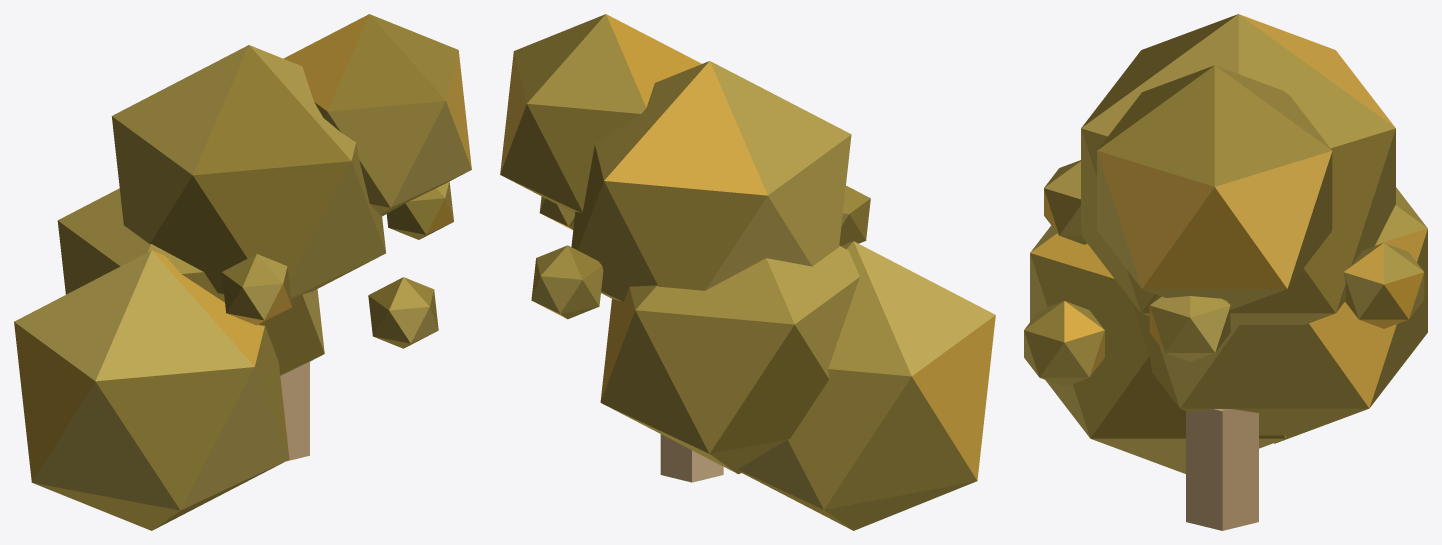
File: Plant_Berry_a.fbx
3 renders of one model, left to right at view 1: azimuth 30°, elevation 25°; view 2: azimuth 150°, elevation 25°; view 3: azimuth 270°, elevation 25°, orthographic. The views are drawn at different scales.
Parts seen in each view (by area): view 1: Plant_Berry_a; view 2: Plant_Berry_a; view 3: Plant_Berry_a.
Boxes of the visible parts, x1,y1,x2,y2 form: Plant_Berry_a: [14, 14, 471, 530]; Plant_Berry_a: [500, 14, 995, 530]; Plant_Berry_a: [1024, 14, 1427, 530].
Size of what is drawn, in the model's own units: 0.5746 by 0.568 by 0.3825.
